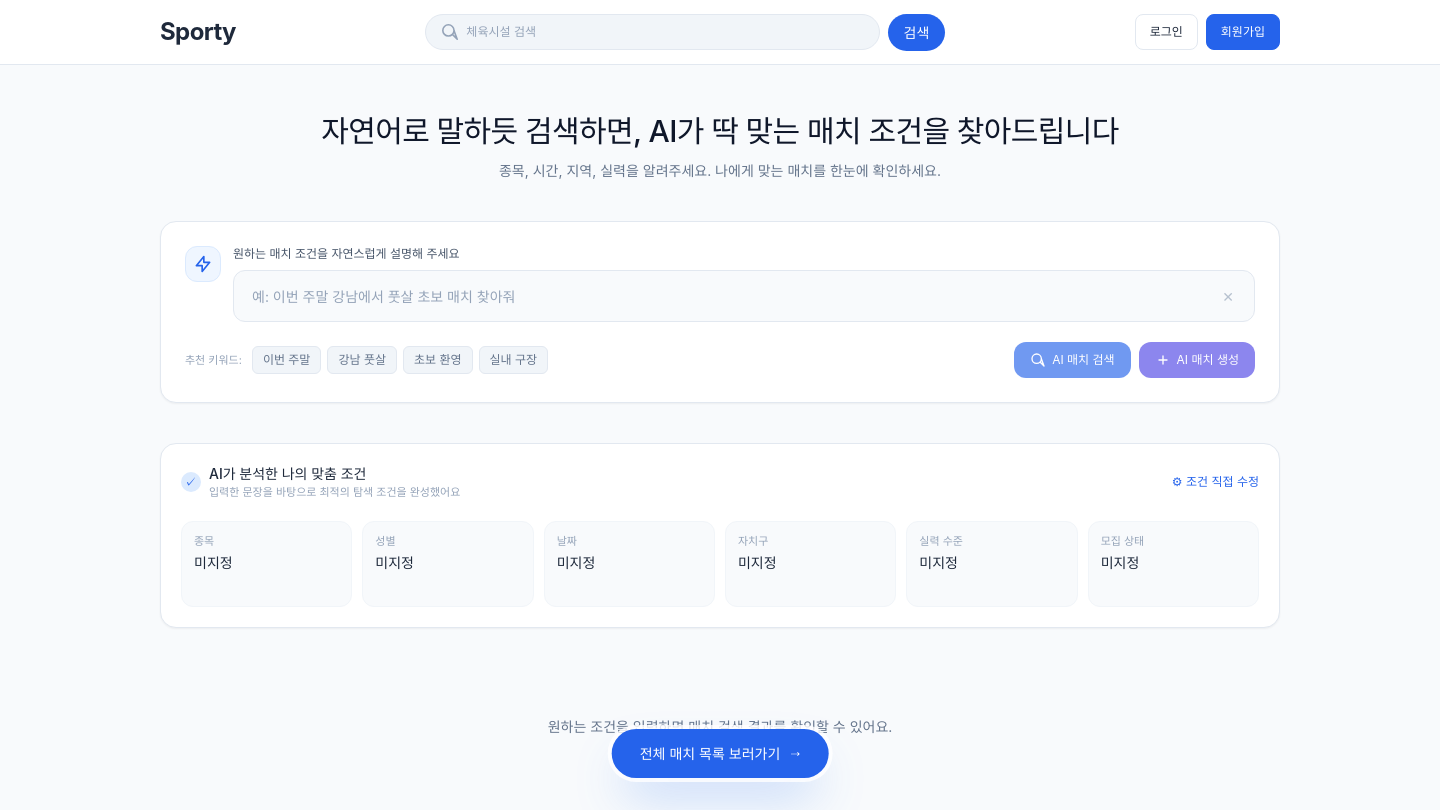
Test: [AI-02] AI 검색 전에도 빈 조건으로 직접 수정해 검색하고 예시 안내를 내린다
Step 1. Click the button "⚙ 조건 직접 수정" → (1215, 482), box [1172,473,1259,491]
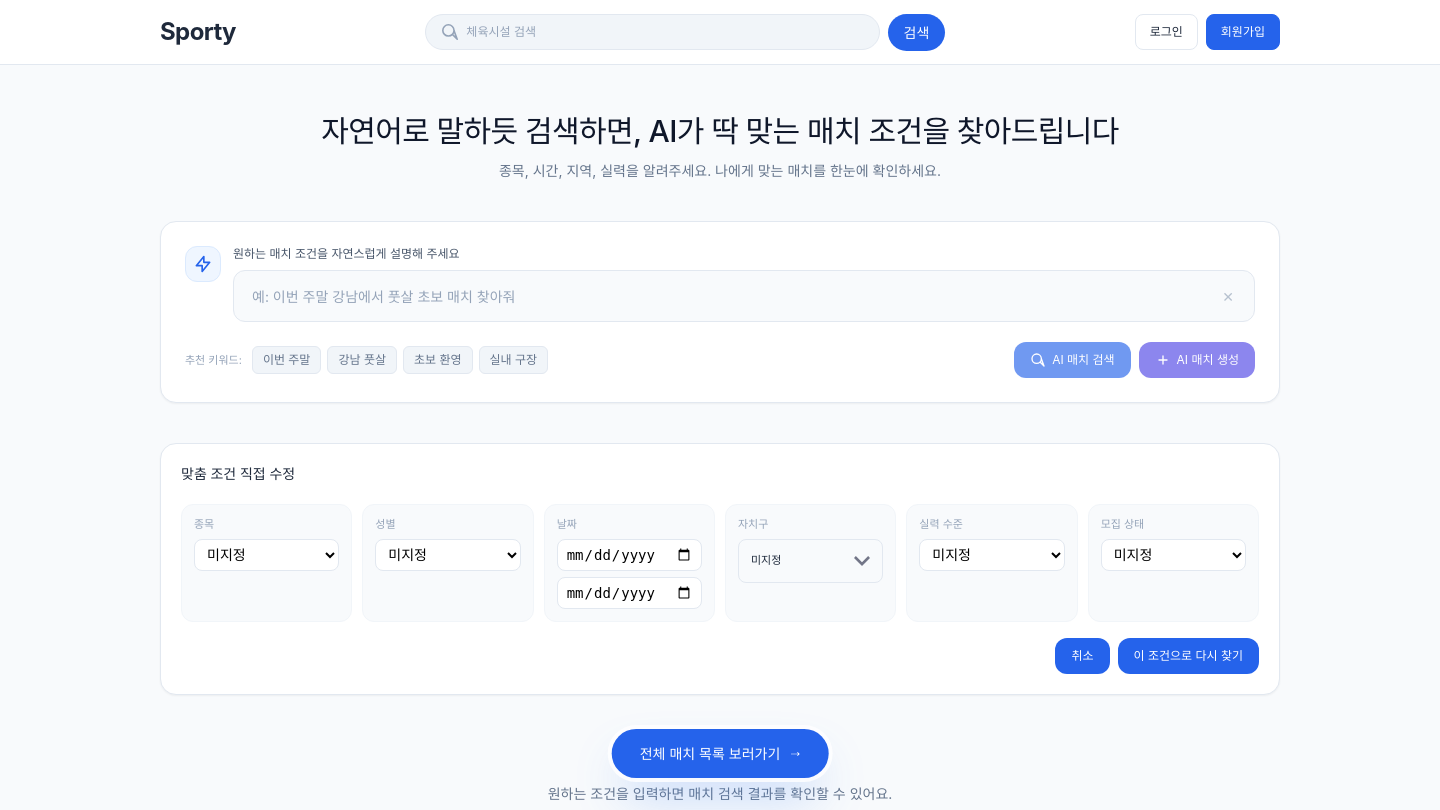
Check: the dropdown labelled "종목" shows "미지정"
Step 2. Select "테니스" in the dropdown labelled "종목" → (267, 554), box [194,538,339,570]
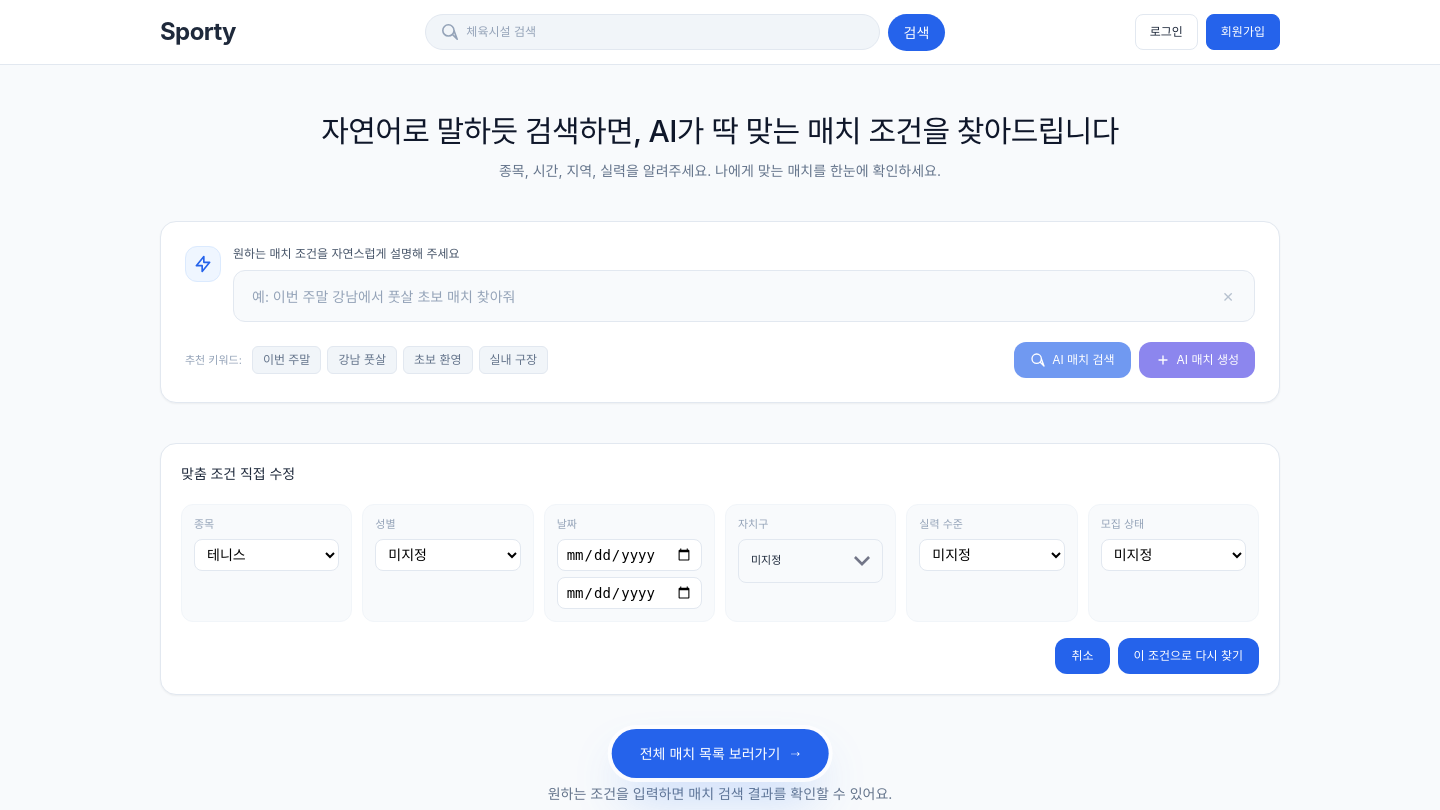
Step 3. Click the button "이 조건으로 다시 찾기" → (1188, 656), box [1118,638,1259,674]
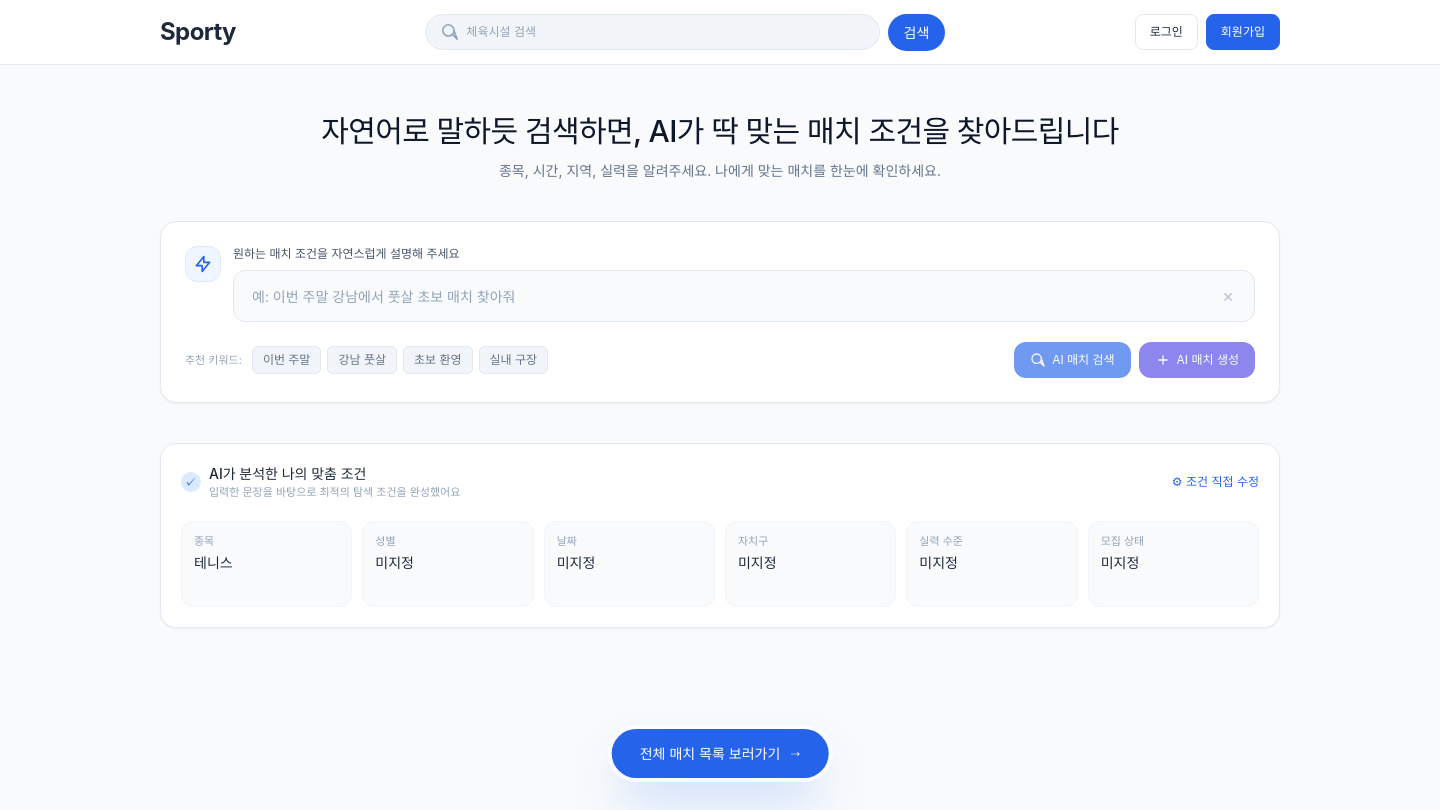
Check: the text "테니스" is shown, box [194,554,233,571]
